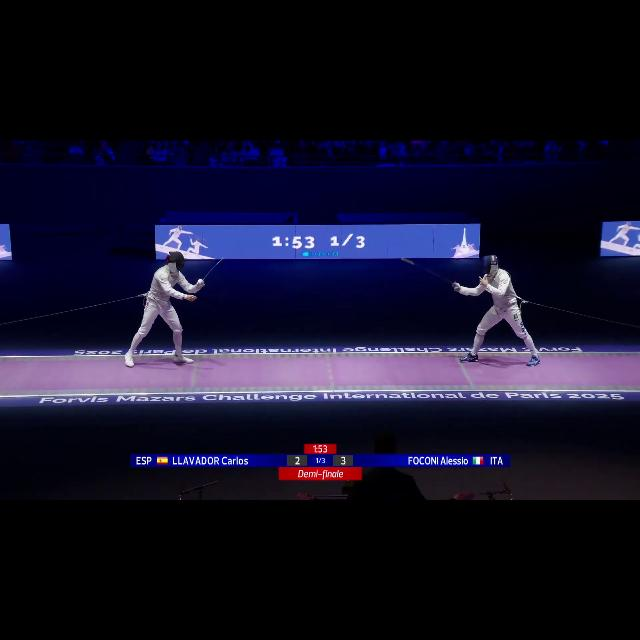blade: (398, 254, 460, 290), (198, 248, 238, 290)
